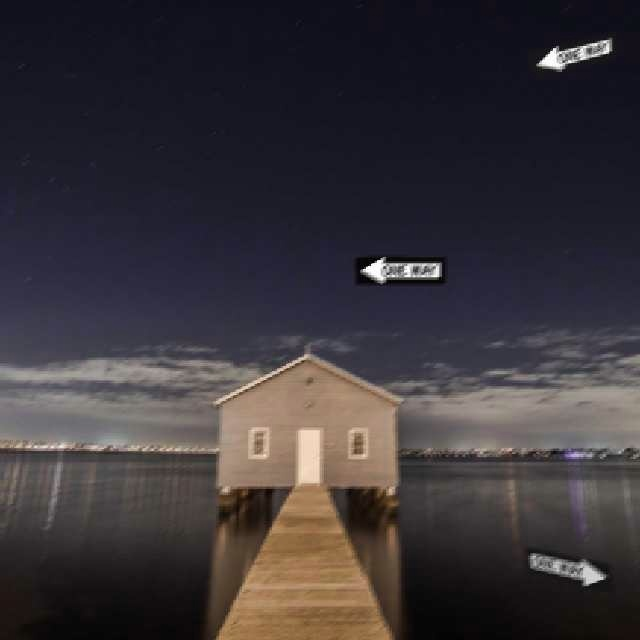ONE_WAY_ left: (523, 30, 614, 78), (353, 255, 444, 284)
ONE_WAY_ right: (523, 545, 614, 594)
